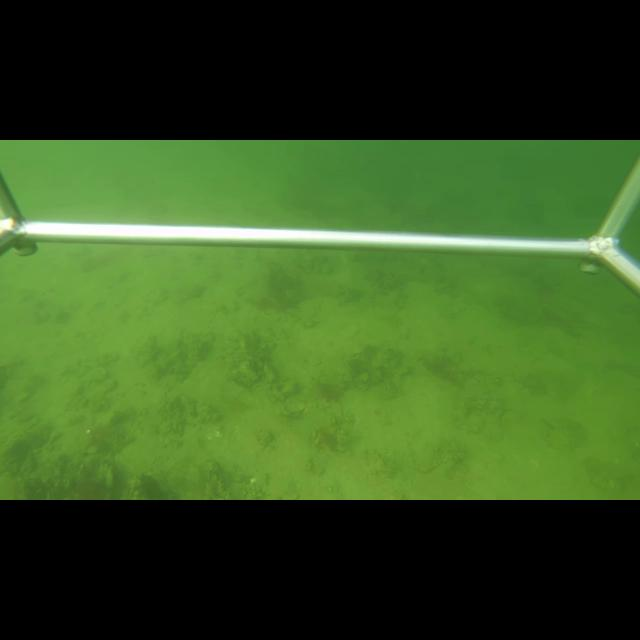Oyster-Closed: (285, 401, 306, 414)
